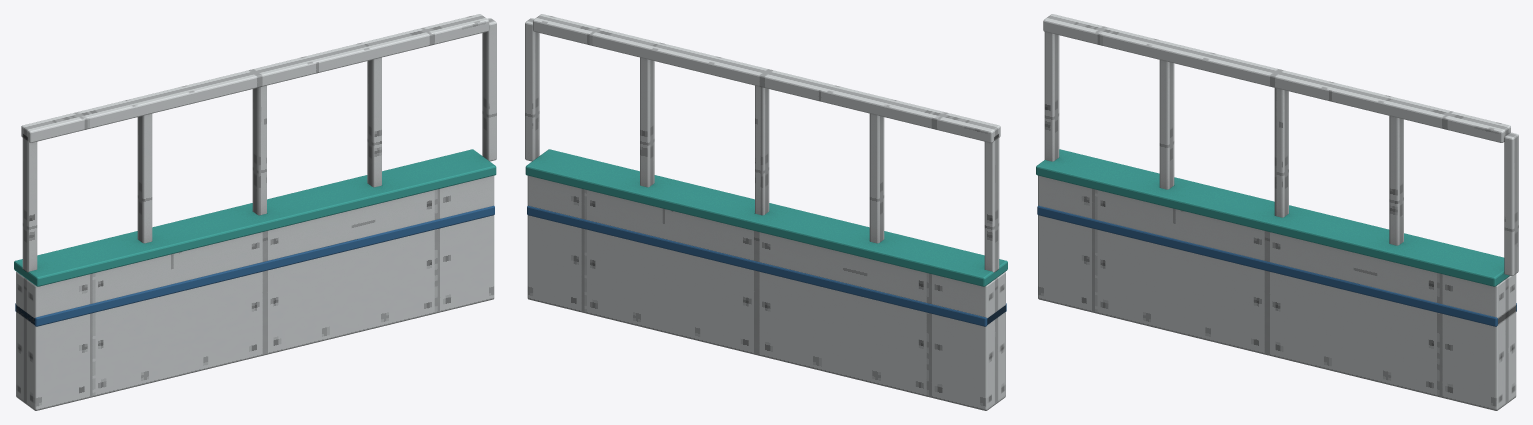
Rendered from base_med_partition.glb.
3 renders of one model, left to right at view 1: azimuth 30°, elevation 25°; view 2: azimuth 150°, elevation 25°; view 3: azimuth 330°, elevation 25°, orthographic.
Visible parts, largest first — view 1: base_med_partition; view 2: base_med_partition; view 3: base_med_partition.
Boxes of the visible parts, x1=… form: base_med_partition: x1=14, y1=14, x2=496, y2=410; base_med_partition: x1=525, y1=14, x2=1007, y2=410; base_med_partition: x1=1036, y1=14, x2=1518, y2=410.
Size of the model in its own units: 4.08 by 2.29 by 0.36.
3 materials, 3 textured.
